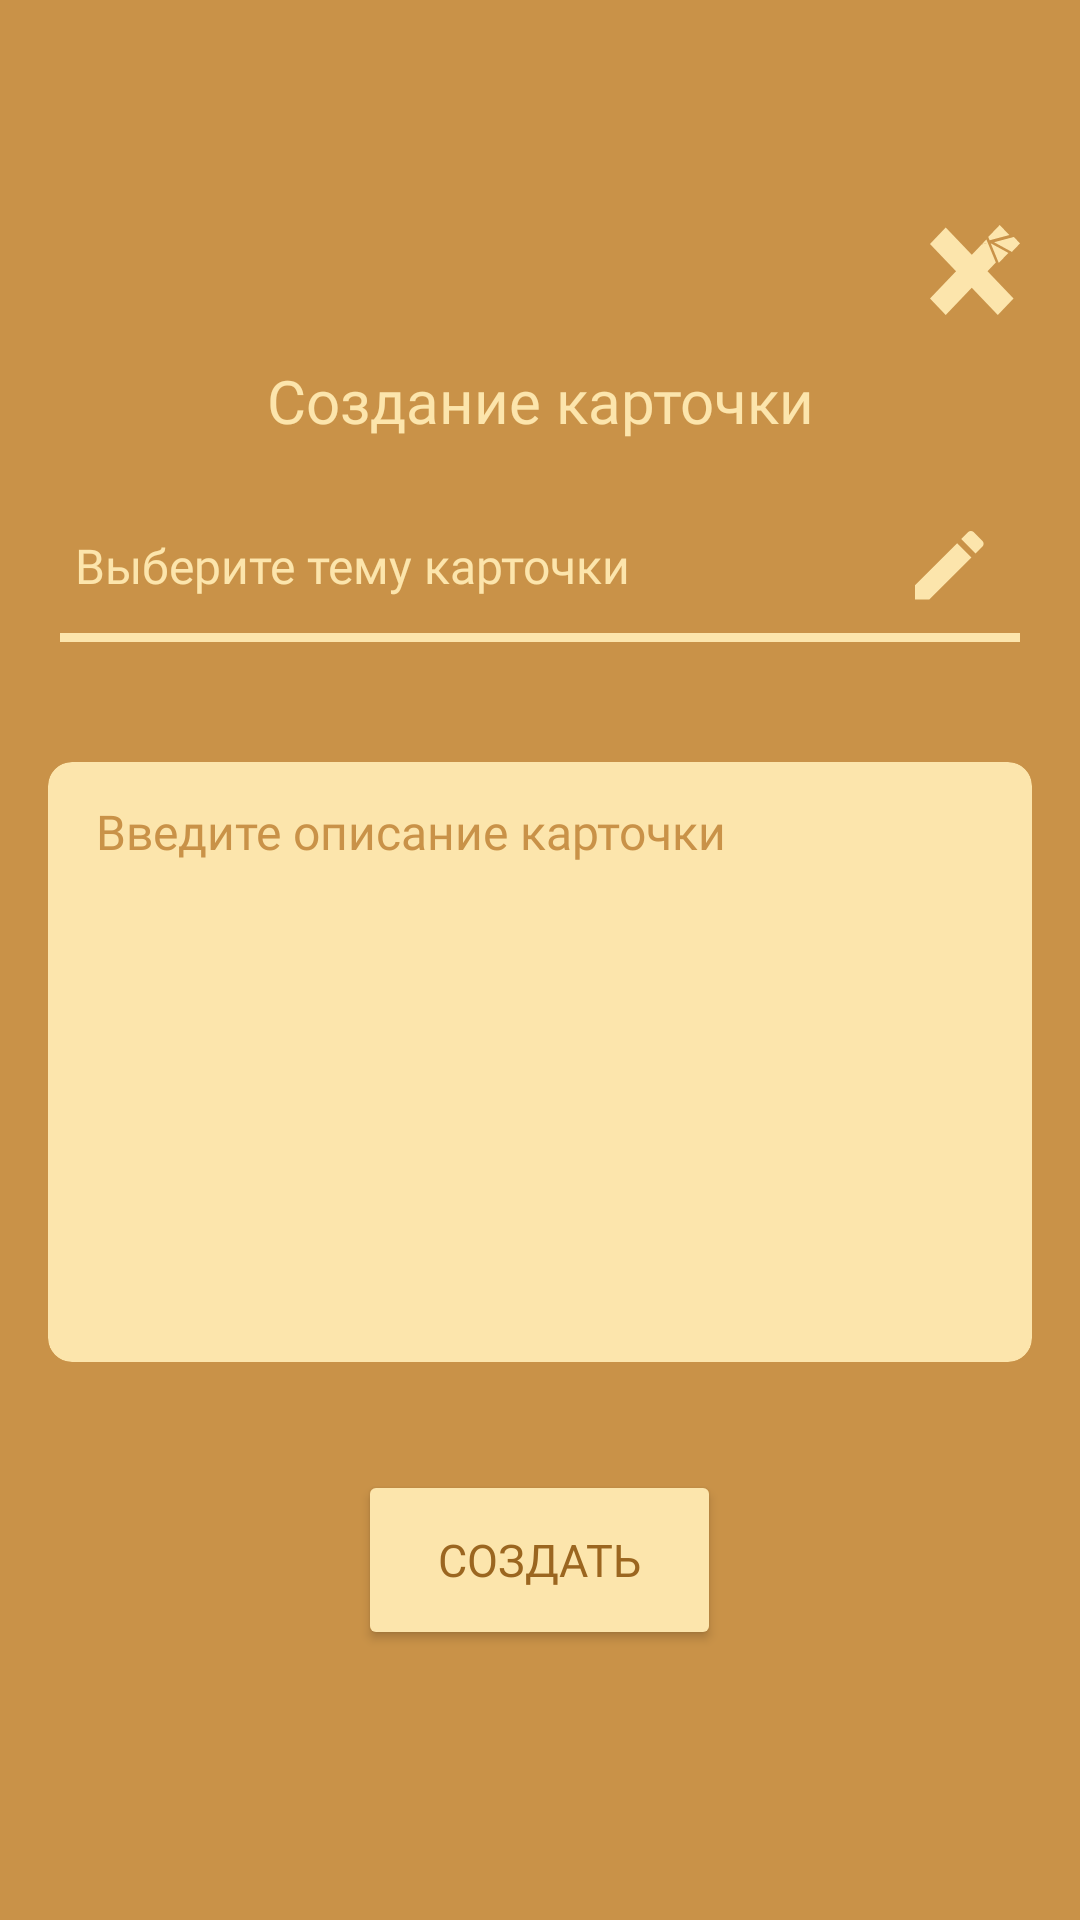

Icons on this 1080w x 1920h Android screen, each with its box as box=[x1, y1, x2, y2]:
close: box=[930, 225, 1020, 315]
